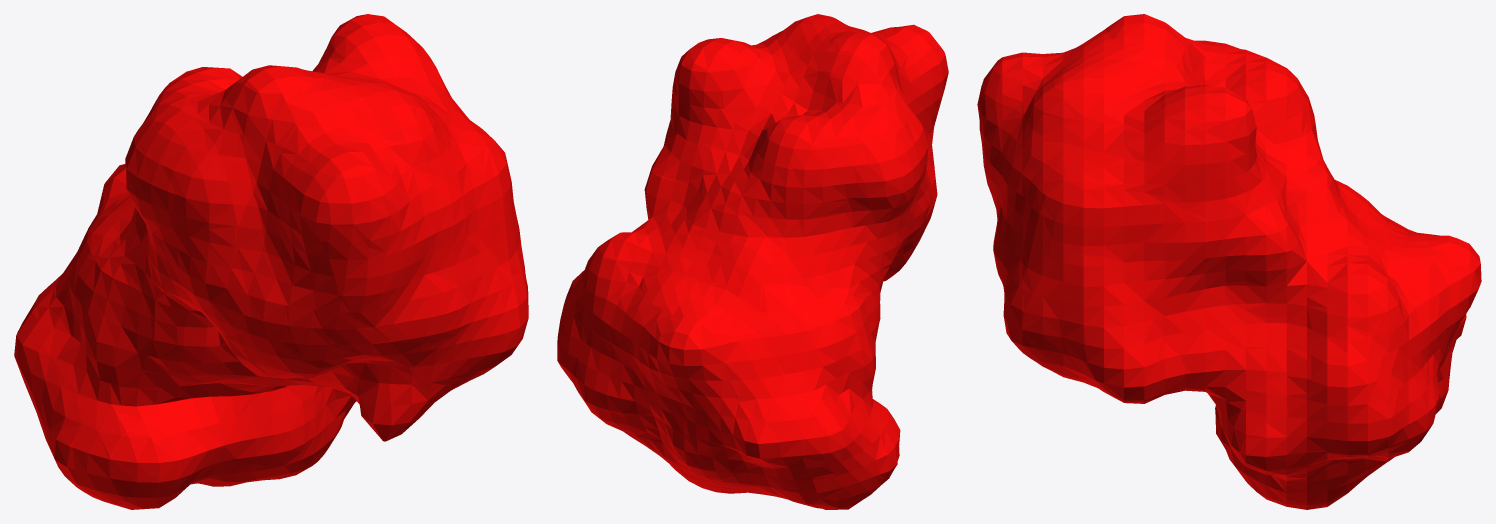
The model's file is rfaF_coarse.dae.
3 renders of one model, left to right at view 1: azimuth 30°, elevation 25°; view 2: azimuth 150°, elevation 25°; view 3: azimuth 270°, elevation 25°, orthographic. The views are drawn at different scales.
Parts seen in each view (by area): view 1: rfaF; view 2: rfaF; view 3: rfaF.
Boxes of the visible parts, bbox=[...] form: rfaF: bbox=[14, 14, 528, 509]; rfaF: bbox=[557, 14, 948, 509]; rfaF: bbox=[977, 14, 1481, 509].
Bounding box in the file's own units: 47.44 × 60.34 × 61.65.
